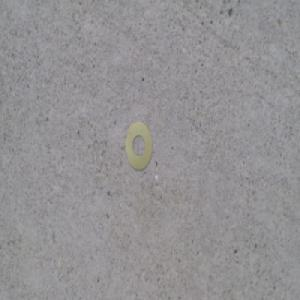Washer: (124, 121, 153, 173)
